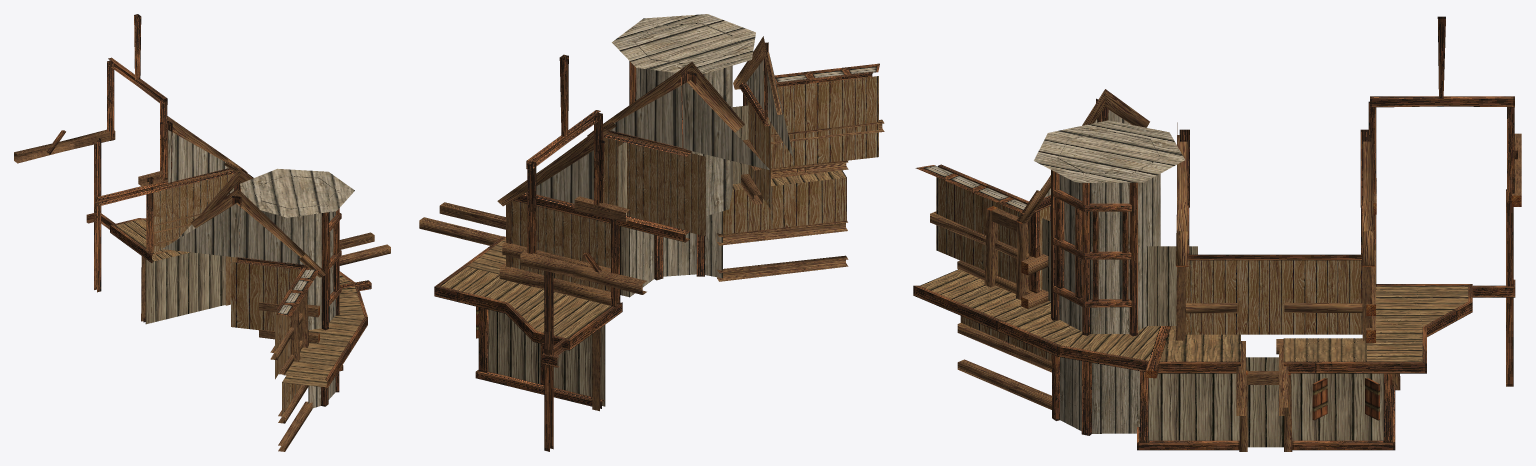
The model's file is LAKETOWN_EXTERIOR_PS_LT_UPPERCOTTAGE76__GX.obj.
3 renders of one model, left to right at view 1: azimuth 30°, elevation 25°; view 2: azimuth 150°, elevation 25°; view 3: azimuth 270°, elevation 25°, orthographic. The views are drawn at different scales.
Parts seen in each view (by area): view 1: erCottage76__GX; view 2: erCottage76__GX; view 3: erCottage76__GX.
Boxes of the visible parts, bbox=[...] form: erCottage76__GX: bbox=[14, 14, 390, 451]; erCottage76__GX: bbox=[419, 14, 884, 451]; erCottage76__GX: bbox=[913, 16, 1521, 451].
Bounding box in the file's own units: 1264 × 1316 × 1911.
